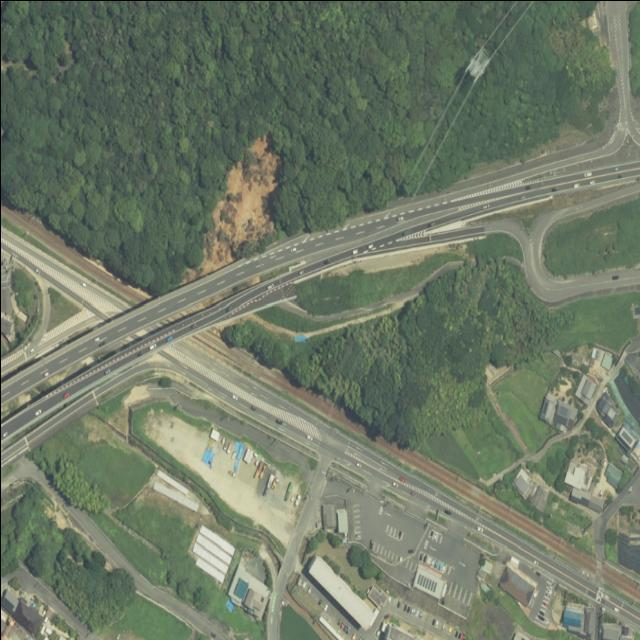landslide: (183, 134, 278, 281)
